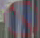No parking: (1, 0, 39, 35)
